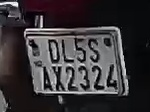2: (89, 65, 106, 93), (65, 66, 79, 91)
3: (77, 65, 93, 92)
4: (104, 63, 120, 93)
5: (69, 37, 89, 63)
A: (40, 67, 52, 92)
D: (45, 39, 62, 65)
L: (60, 38, 75, 65)
S: (87, 36, 102, 65)
X: (53, 67, 67, 92)
